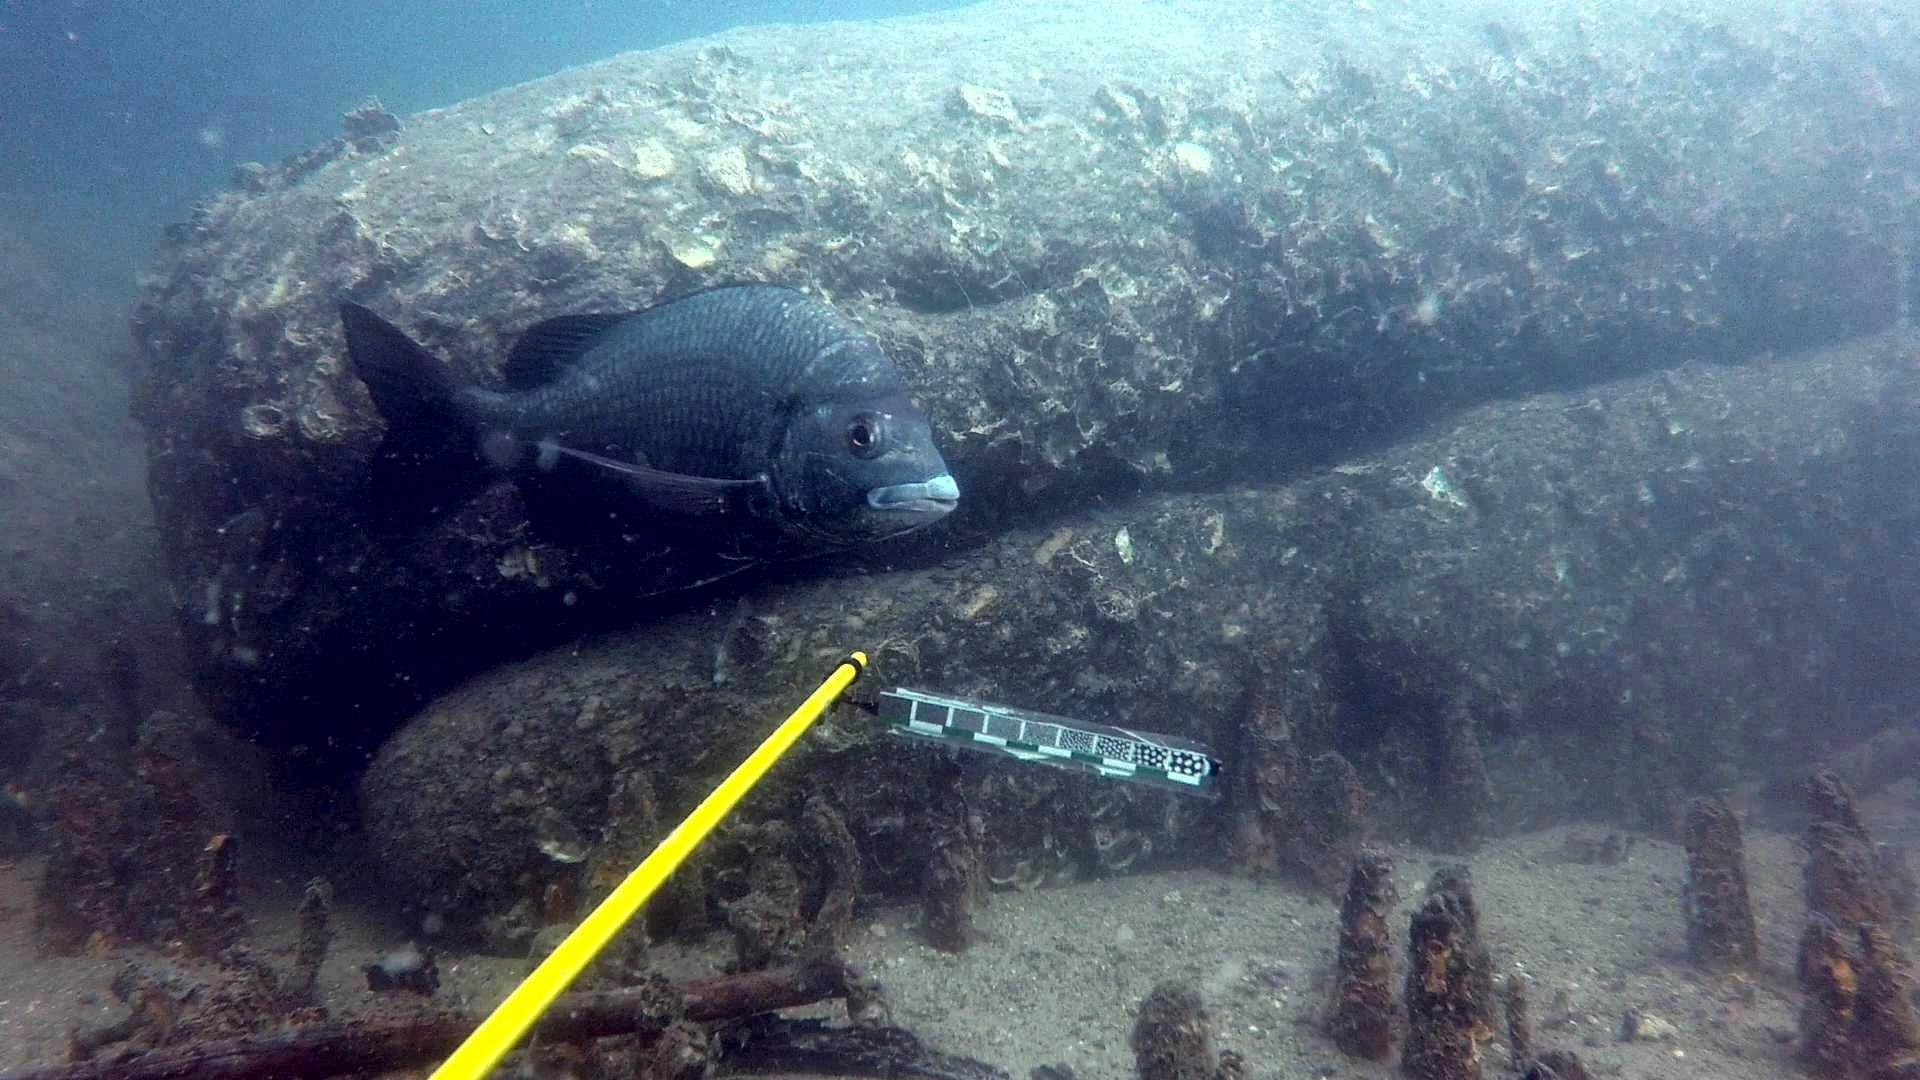acanthopagrus palmaris: (323, 281, 967, 605)
